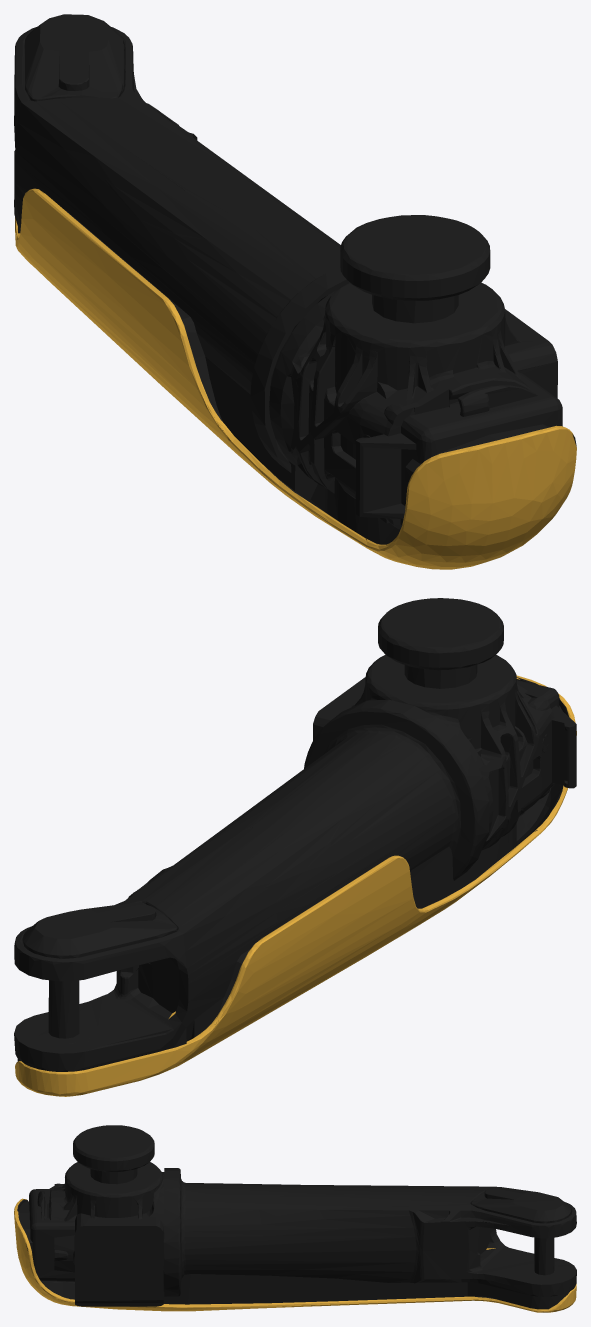
File: rear_right_upper_leg.obj
3 renders of one model, top to bottom at view 1: azimuth 30°, elevation 25°; view 2: azimuth 150°, elevation 25°; view 3: azimuth 270°, elevation 25°, orthographic. The views are drawn at different scales.
Visible parts, largest first — view 1: _2-042137-001-A00_TOP_LEVEL_DEFEATURED_-_NOT_FOR_PRODUCTION_004; view 2: _2-042137-001-A00_TOP_LEVEL_DEFEATURED_-_NOT_FOR_PRODUCTION_004; view 3: _2-042137-001-A00_TOP_LEVEL_DEFEATURED_-_NOT_FOR_PRODUCTION_004.
Part boxes in pixels (x1,y1,x2,y2): _2-042137-001-A00_TOP_LEVEL_DEFEATURED_-_NOT_FOR_PRODUCTION_004: (14, 14, 576, 569); _2-042137-001-A00_TOP_LEVEL_DEFEATURED_-_NOT_FOR_PRODUCTION_004: (14, 598, 576, 1096); _2-042137-001-A00_TOP_LEVEL_DEFEATURED_-_NOT_FOR_PRODUCTION_004: (14, 1125, 576, 1312).
Bounding box in the file's own units: 0.1011 × 0.1322 × 0.4185.
